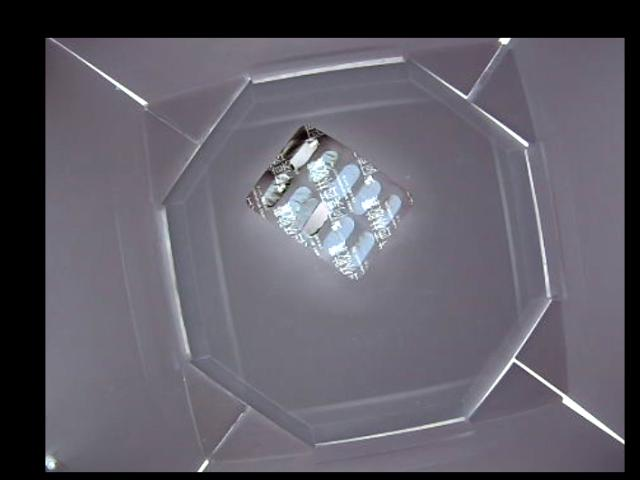Medicine: (249, 123, 414, 280)
